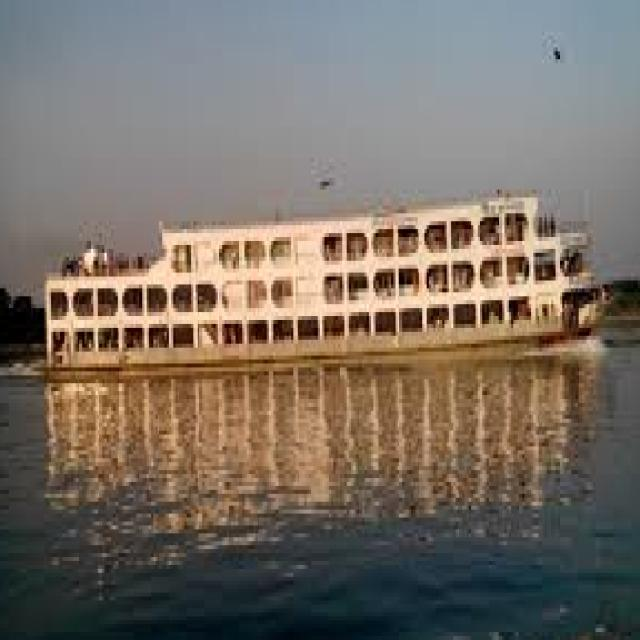passenger ship: (36, 133, 608, 401)
